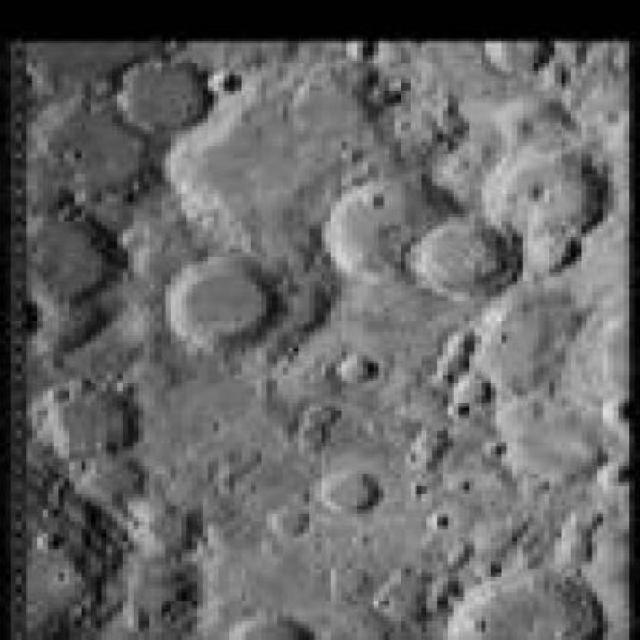crater: (325, 182, 460, 282), (168, 257, 284, 349), (407, 212, 519, 300), (30, 378, 142, 456), (124, 55, 221, 133), (318, 471, 377, 512), (339, 355, 383, 388), (209, 71, 242, 92)
